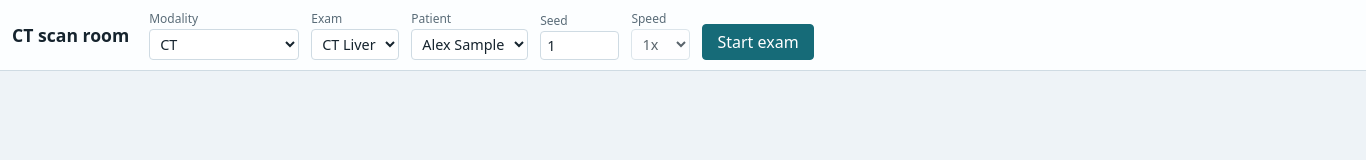
the seed › a seed that is not a whole number from 0 up is not taken, and the box shows the last good one again
The width and height of the screenshot is (1366, 160).
Clear the number field labelled "Seed" at [580, 46], box [540,31,619,60]
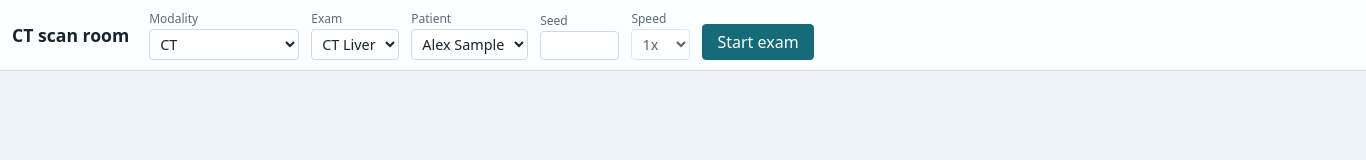
Type "-3" into the number field labelled "Seed".
click(580, 46); type("-3")  # box [540,31,619,60]
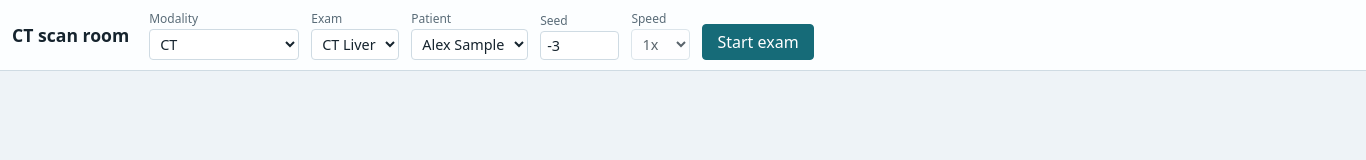
Replace the text in the number field labelled "Seed" with "2.5" at [580, 46], box [540,31,619,60]
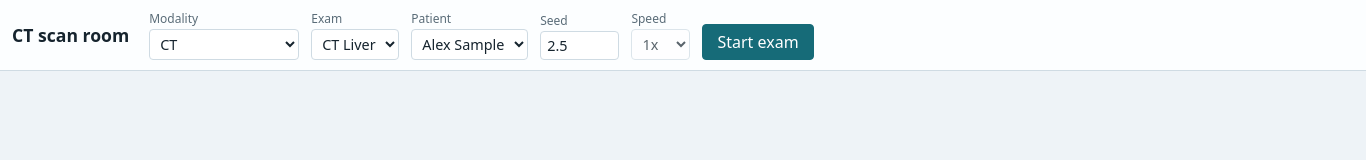
Leave the number field labelled "Seed", box [540,31,619,60]
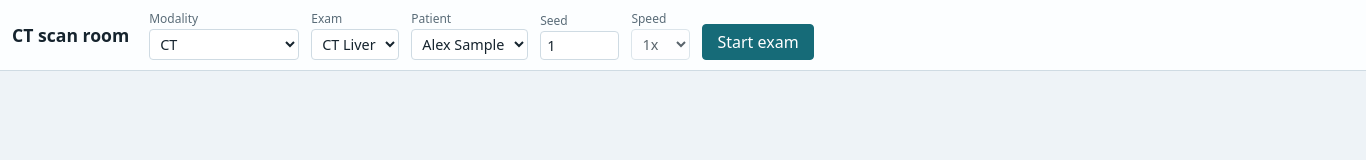
Expected: the number field labelled "Seed" holds "1", [540,31,619,60]
